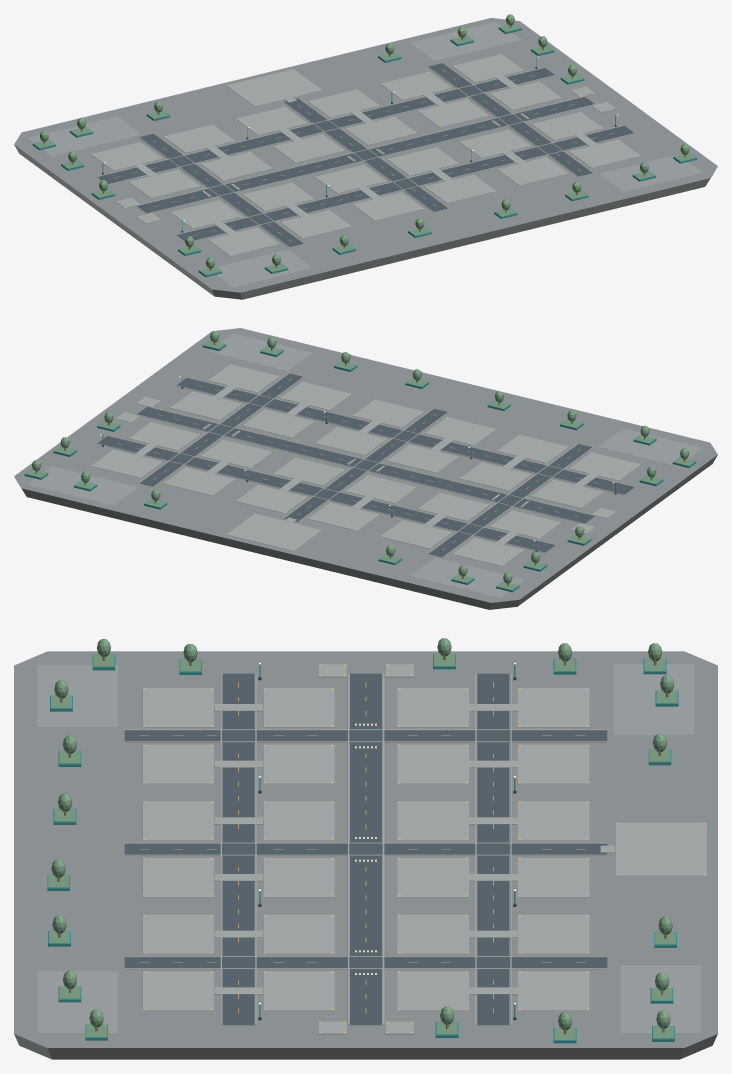
Rendered from ground.glb.
3 views of the same model, one above another, from view 1: azimuth 30°, elevation 25°; view 2: azimuth 150°, elevation 25°; view 3: azimuth 270°, elevation 25° (orthographic). The views are drawn at different scales.
Visible parts, largest first — view 1: planet_urban__Terrain, planet_urban__Roads, planet_urban__Decoration; view 2: planet_urban__Terrain, planet_urban__Roads, planet_urban__Decoration; view 3: planet_urban__Terrain, planet_urban__Roads, planet_urban__Decoration.
Boxes of the visible parts, x1=… form: planet_urban__Terrain: x1=14, y1=18, x2=717, y2=299; planet_urban__Roads: x1=91, y1=54, x2=640, y2=256; planet_urban__Decoration: x1=32, y1=14, x2=696, y2=277; planet_urban__Terrain: x1=14, y1=328, x2=717, y2=609; planet_urban__Roads: x1=91, y1=364, x2=640, y2=566; planet_urban__Decoration: x1=24, y1=331, x2=696, y2=592; planet_urban__Terrain: x1=14, y1=651, x2=717, y2=1059; planet_urban__Roads: x1=124, y1=664, x2=706, y2=1034; planet_urban__Decoration: x1=47, y1=638, x2=678, y2=1043.
Bounding box in the file's own units: 140 × 6.47 × 105.
